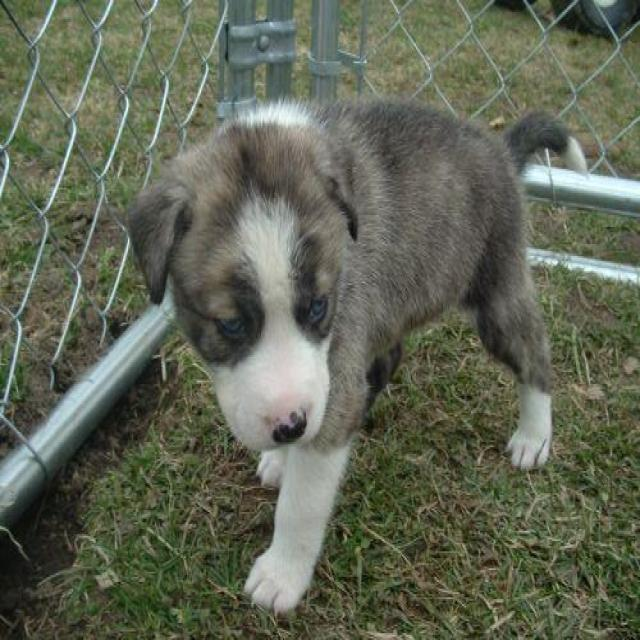Dogs: (124, 90, 588, 614)
